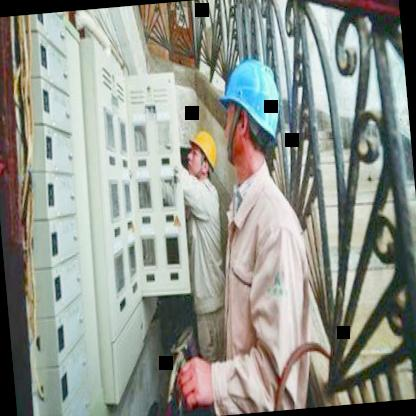helmet: (216, 49, 299, 184), (181, 122, 224, 186)
